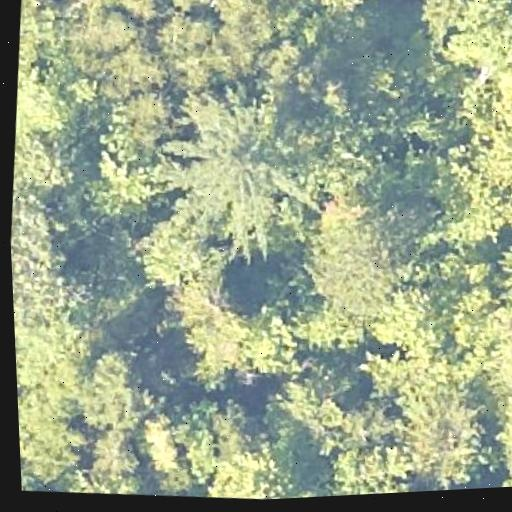tree-top: (155, 80, 336, 271), (297, 173, 426, 333), (79, 81, 188, 223), (176, 278, 291, 388), (394, 379, 495, 492), (13, 296, 105, 416), (150, 0, 267, 94), (54, 0, 154, 105), (123, 201, 229, 297), (74, 340, 171, 439), (421, 158, 512, 258), (203, 413, 305, 502), (266, 353, 350, 452), (17, 368, 92, 478), (9, 190, 76, 312), (175, 78, 277, 155), (431, 0, 512, 82), (9, 118, 83, 206), (314, 438, 423, 497), (455, 288, 512, 400), (133, 408, 198, 482), (329, 387, 398, 454), (85, 418, 152, 483), (13, 75, 76, 134), (56, 465, 150, 499), (484, 394, 512, 488), (65, 0, 178, 20), (18, 0, 67, 45), (291, 0, 390, 21), (489, 231, 512, 309), (20, 450, 47, 491), (161, 0, 228, 13)
